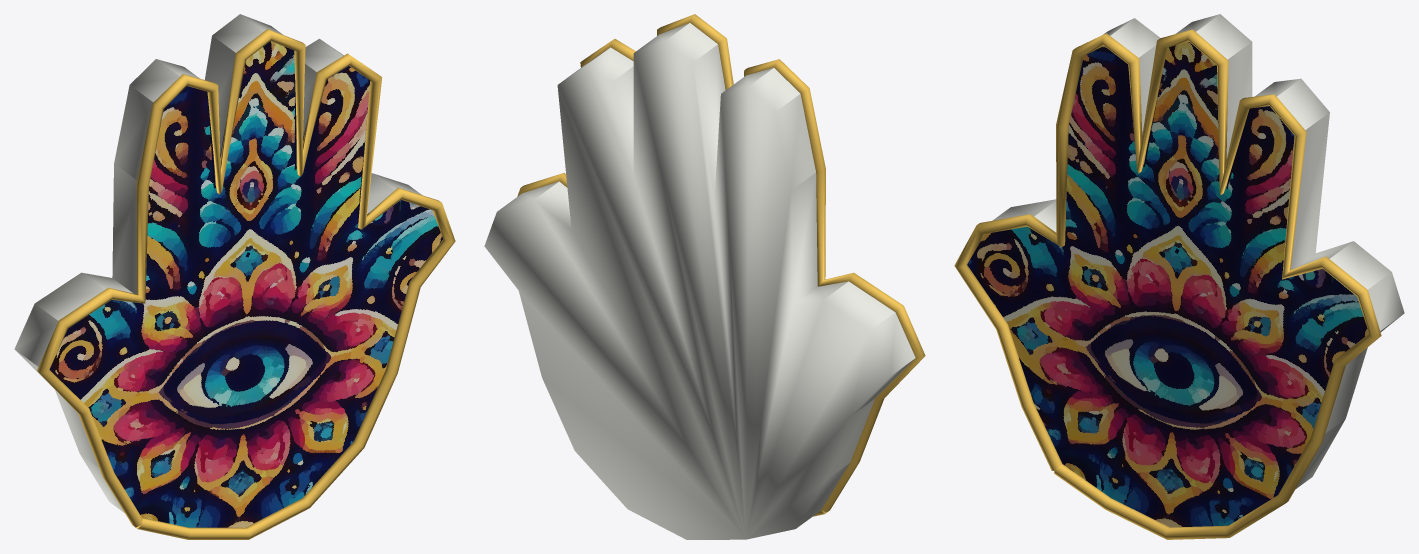
File: ManoFatima.fbx
3 renders of one model, left to right at view 1: azimuth 30°, elevation 25°; view 2: azimuth 150°, elevation 25°; view 3: azimuth 330°, elevation 25°, orthographic. The views are drawn at different scales.
Parts seen in each view (by area): view 1: Mano de Fátima | silueta principal, Mano de Fátima | borde exterior; view 2: Mano de Fátima | silueta principal, Mano de Fátima | borde exterior; view 3: Mano de Fátima | silueta principal, Mano de Fátima | borde exterior.
Part boxes in pixels (<box>): Mano de Fátima | silueta principal: <box>14,14,442,527</box>; Mano de Fátima | borde exterior: <box>37,29,455,539</box>; Mano de Fátima | silueta principal: <box>484,23,915,539</box>; Mano de Fátima | borde exterior: <box>517,14,925,516</box>; Mano de Fátima | silueta principal: <box>967,14,1404,527</box>; Mano de Fátima | borde exterior: <box>954,29,1381,539</box>.
Bounding box in the file's own units: 267 × 309 × 35.5.
